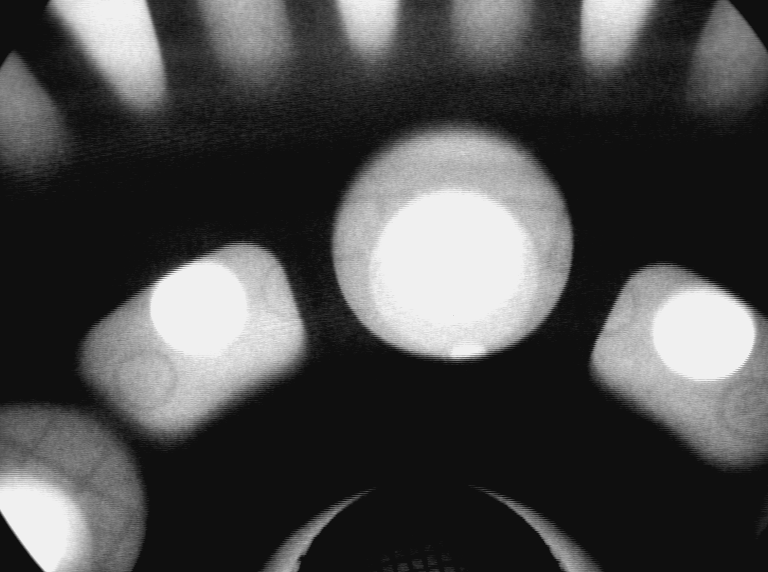defect: (447, 338, 492, 367)
